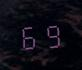nine: (41, 20, 62, 48)
six: (19, 21, 40, 50)
